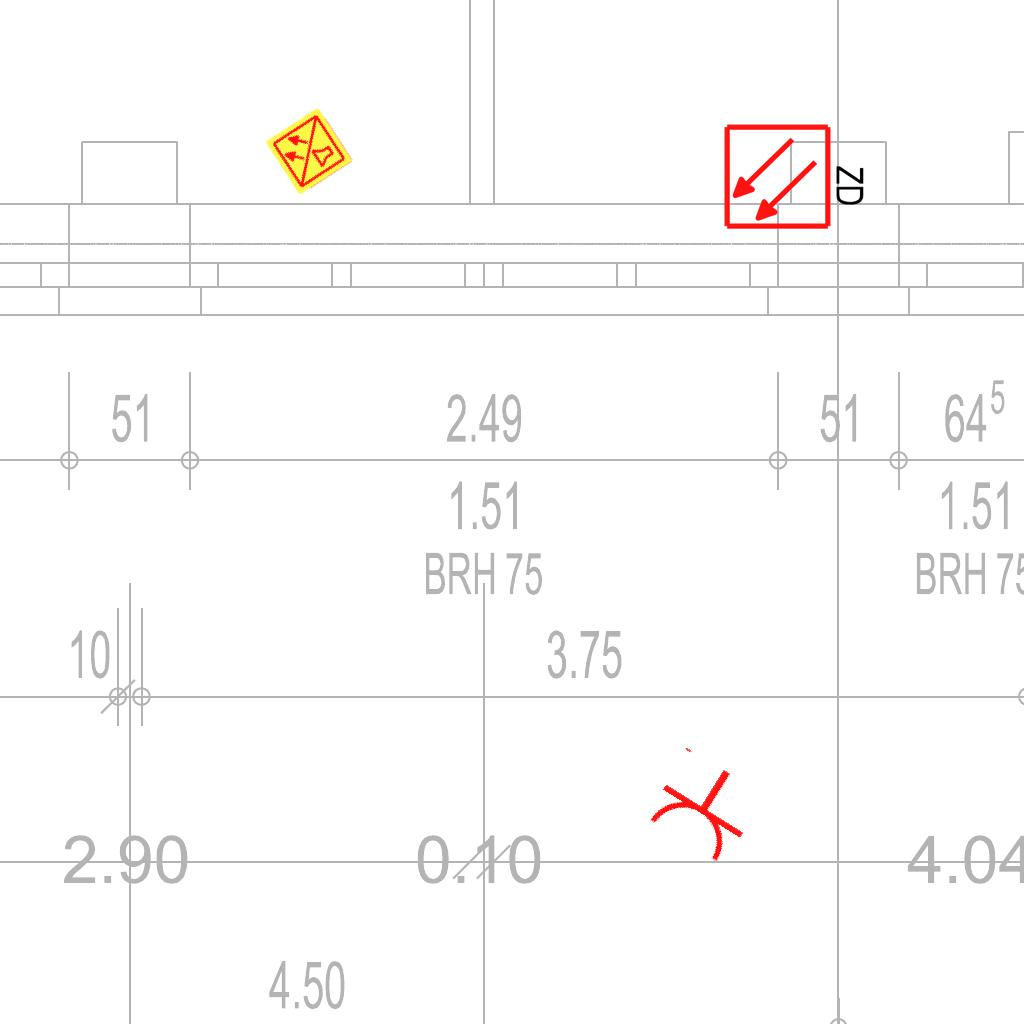OKW_Multisensormelder_(Kombination_optischer_Rauch-Kahlenmonoxid_Waerme-Melder): (263, 105, 355, 197)
Schukosteckdose_einfach: (638, 742, 769, 870)
ZD_Melder_in_Zwischendecke_mit_Revisionsoeffnung_mind_40_x_40_cm: (722, 118, 871, 232)
